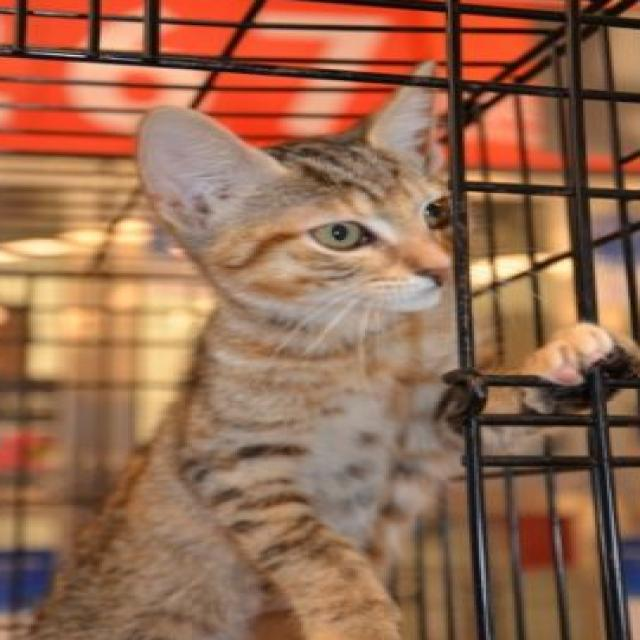Egyptian Mau: (7, 56, 640, 640)
